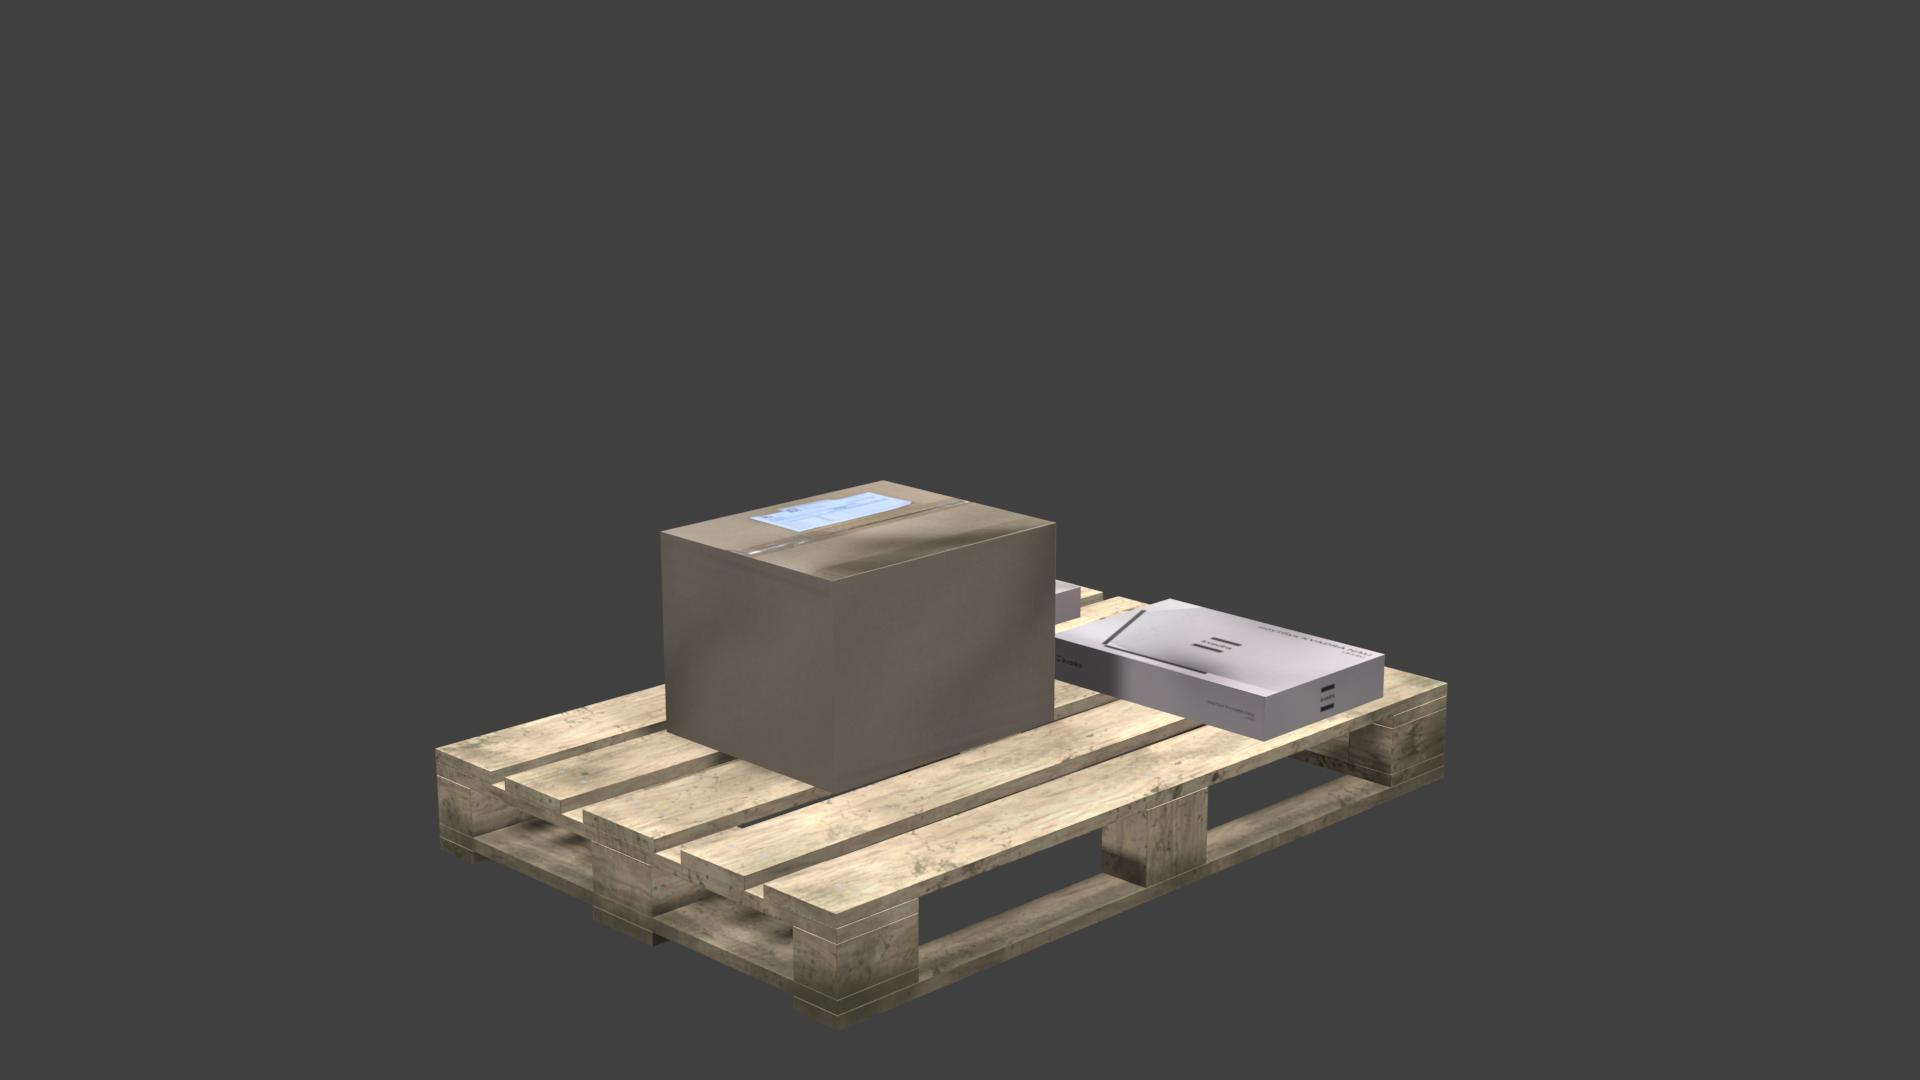group_box_left: (662, 522, 1054, 793)
group_box_top: (663, 480, 1052, 580)
laptop_left: (1055, 639, 1385, 741)
laptop_top: (1055, 598, 1384, 697)
palet: (434, 665, 1447, 1033)
